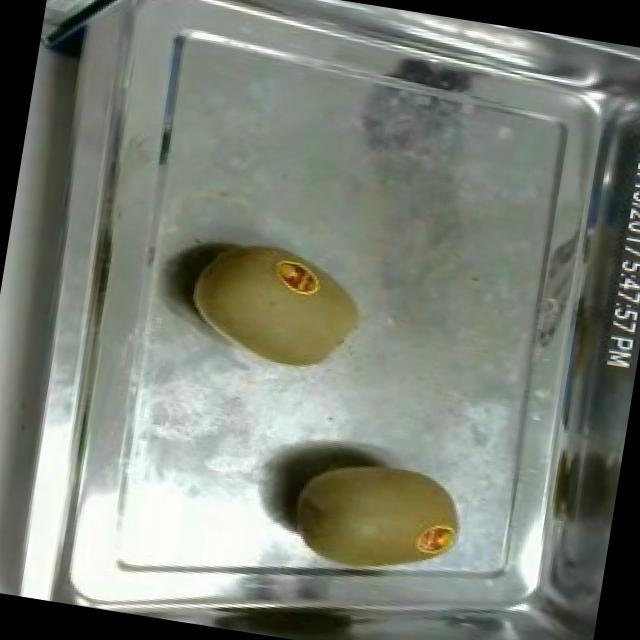Fruit: (270, 435, 480, 601), (176, 228, 375, 386)
